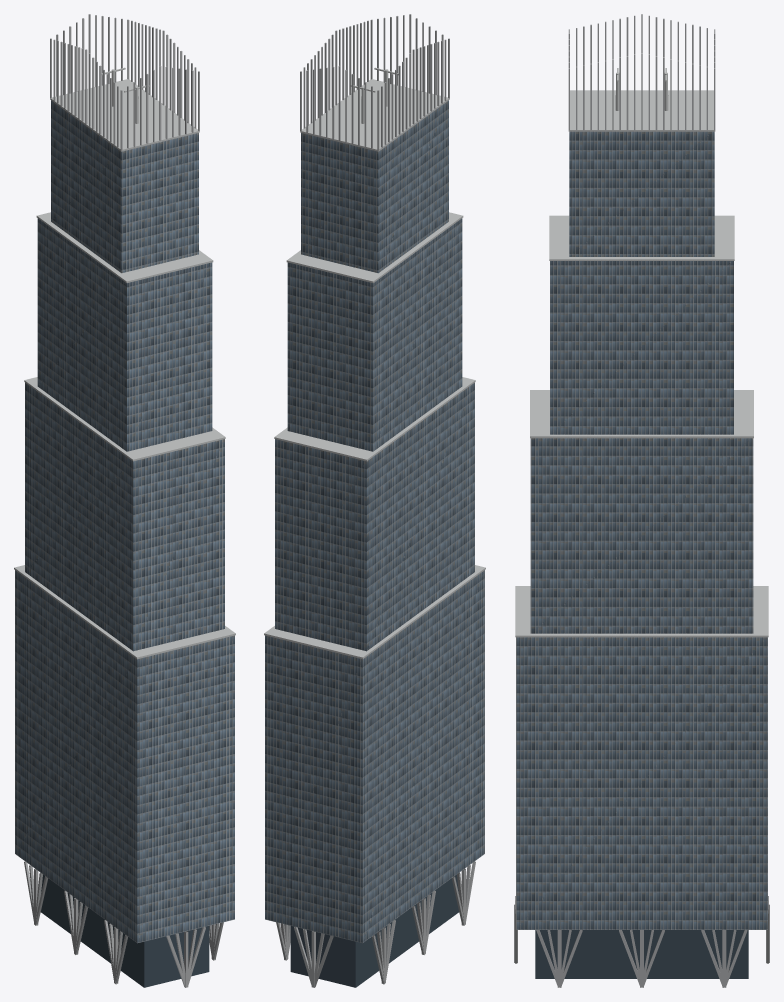
Rendered from park_270.glb.
3 views of the same model, side by side, from view 1: azimuth 30°, elevation 25°; view 2: azimuth 150°, elevation 25°; view 3: azimuth 270°, elevation 25° (orthographic). The views are drawn at different scales.
Visible parts, largest first — view 1: park_270; view 2: park_270; view 3: park_270.
Boxes of the visible parts, x1=… form: park_270: x1=14, y1=14, x2=235, y2=987; park_270: x1=264, y1=14, x2=485, y2=987; park_270: x1=514, y1=14, x2=769, y2=987.
Size of the model in its own units: 49.18 by 423 by 106.
2 materials, 2 textured.
